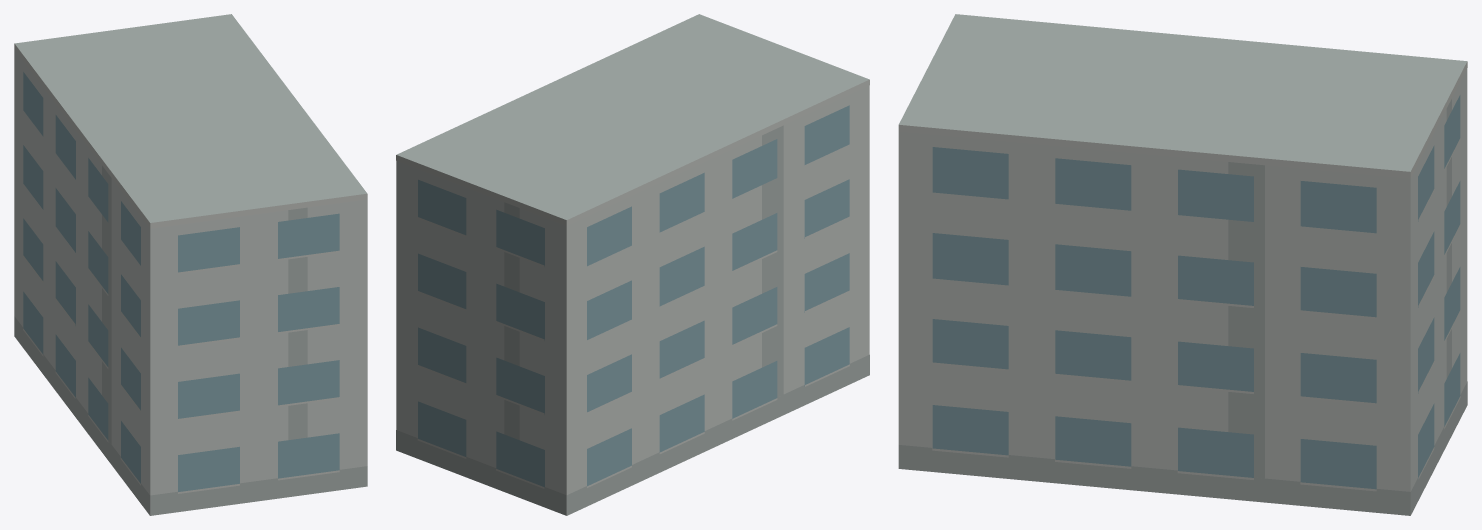
Rendered from residential-ea360fee-7301-45b9-8ecf-ea0a77a6f2de.glb.
The picture shows the model from 3 angles, left to right: view 1: azimuth 30°, elevation 25°; view 2: azimuth 150°, elevation 25°; view 3: azimuth 270°, elevation 25°; orthographic projection. The views are drawn at different scales.
Visible parts, largest first — view 1: residential-ea360fee-7301-45b9-8ecf-ea0a77a6f2de.tmp; view 2: residential-ea360fee-7301-45b9-8ecf-ea0a77a6f2de.tmp; view 3: residential-ea360fee-7301-45b9-8ecf-ea0a77a6f2de.tmp.
Boxes of the visible parts, x1,y1,x2,y2 form: residential-ea360fee-7301-45b9-8ecf-ea0a77a6f2de.tmp: (14, 14, 367, 515); residential-ea360fee-7301-45b9-8ecf-ea0a77a6f2de.tmp: (396, 14, 869, 515); residential-ea360fee-7301-45b9-8ecf-ea0a77a6f2de.tmp: (898, 14, 1467, 515).
Size of the model in its own units: 12.01 by 12.2 by 18.29.
